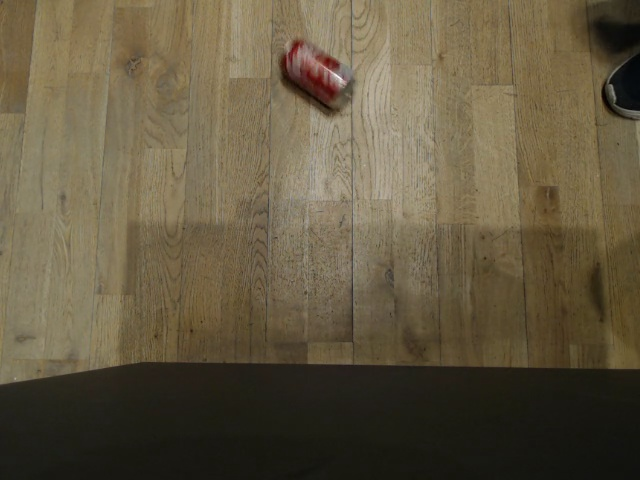cola: (276, 37, 366, 113)
